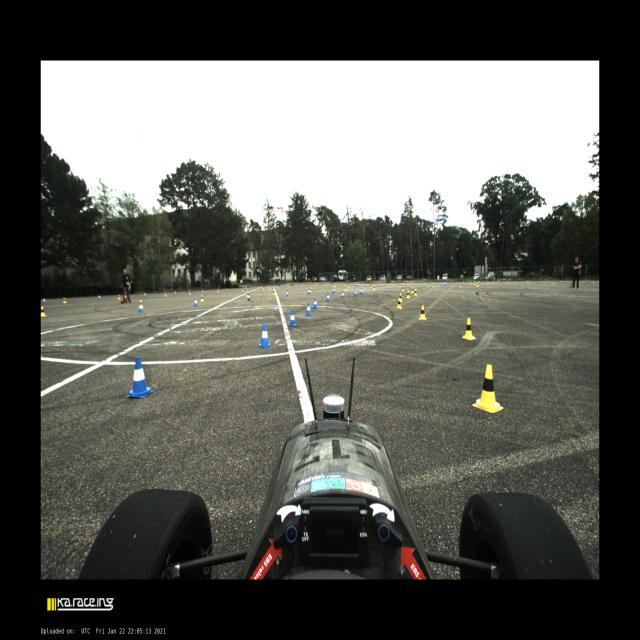blue_cone: (126, 356, 155, 398), (258, 324, 271, 348), (288, 310, 296, 327), (306, 302, 312, 316), (312, 298, 318, 309), (138, 303, 144, 312), (326, 294, 330, 302), (341, 290, 345, 298), (194, 298, 198, 306), (42, 298, 46, 304), (247, 294, 251, 300), (354, 290, 357, 296), (360, 288, 363, 294), (354, 287, 357, 293), (286, 290, 288, 296), (308, 288, 310, 294), (332, 288, 335, 292), (98, 295, 100, 300), (440, 282, 442, 286), (423, 282, 425, 286), (380, 283, 382, 287), (174, 291, 176, 295), (364, 283, 366, 287), (144, 292, 146, 296), (401, 282, 403, 286), (445, 281, 447, 285), (587, 279, 589, 282), (547, 280, 549, 283), (498, 280, 500, 283), (451, 281, 453, 284), (226, 288, 228, 291), (245, 287, 247, 290), (286, 285, 288, 288), (525, 280, 527, 283), (463, 280, 464, 284), (202, 290, 204, 292), (274, 286, 276, 288), (479, 280, 480, 284), (561, 280, 562, 283), (444, 282, 445, 285), (261, 286, 262, 289), (317, 283, 318, 286), (357, 283, 358, 286), (358, 284, 359, 286), (350, 283, 351, 285), (338, 283, 339, 285), (354, 283, 355, 285), (328, 284, 328, 286), (356, 283, 356, 286)
yellow_cone: (472, 365, 503, 413), (461, 318, 476, 340), (418, 305, 426, 320), (396, 297, 402, 309), (41, 306, 46, 316), (138, 300, 144, 308), (398, 293, 402, 302), (406, 290, 410, 298), (200, 294, 204, 302), (410, 286, 414, 293), (63, 297, 67, 304), (414, 288, 417, 296), (372, 285, 376, 290), (432, 282, 435, 288), (118, 294, 121, 300), (552, 280, 555, 285), (164, 292, 167, 297), (459, 283, 462, 287), (592, 280, 595, 284), (344, 285, 346, 291), (402, 286, 404, 291), (476, 282, 478, 287), (370, 283, 372, 288), (189, 290, 191, 295), (273, 290, 275, 295), (487, 280, 489, 284), (507, 280, 509, 284), (527, 280, 529, 284), (470, 280, 472, 284), (348, 284, 350, 288), (333, 284, 335, 288), (473, 282, 475, 286), (246, 291, 247, 297), (277, 285, 279, 288), (310, 287, 311, 292), (399, 283, 400, 287), (218, 288, 219, 292), (242, 287, 243, 291), (263, 286, 264, 290), (325, 284, 327, 286), (335, 283, 336, 287), (478, 282, 479, 286), (301, 284, 302, 287), (289, 285, 290, 288), (315, 284, 316, 286)
